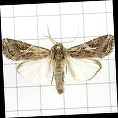Spodoptera litura: (3, 22, 116, 95)
